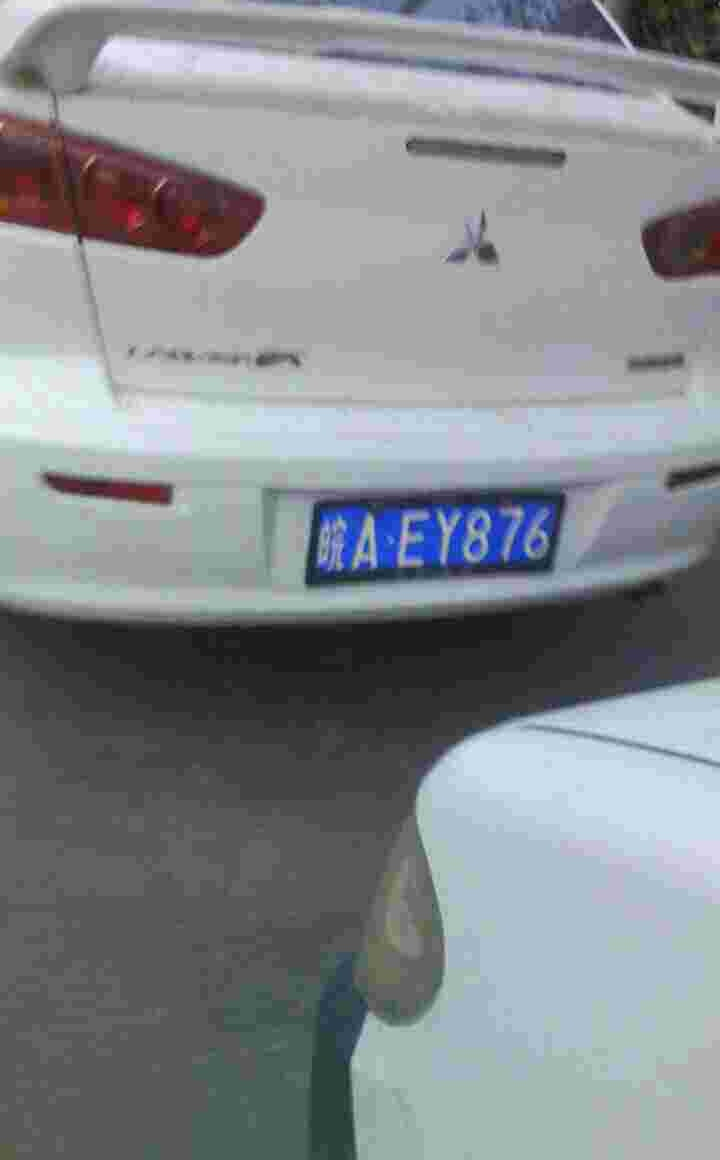plate: (312, 488, 572, 588)
